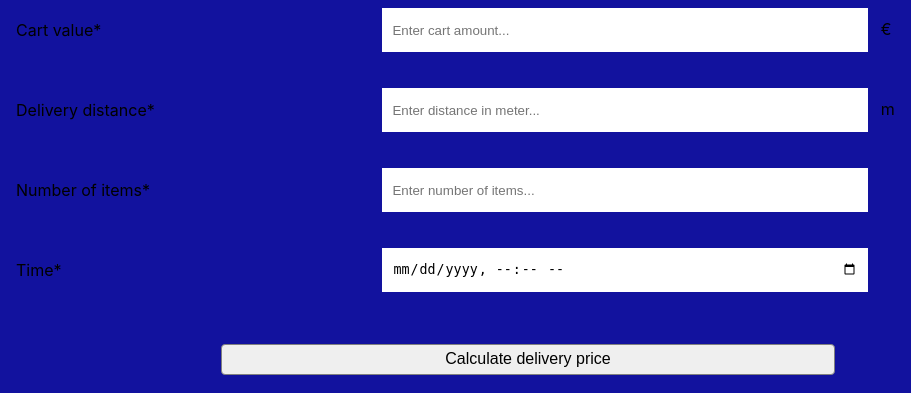
Scenario: check DeliveryForm renders › Only one error message appear with empty Input cart value
The width and height of the screenshot is (911, 393).
Type "1000" into the number field labelled "Delivery distance*" at (625, 110), box top-left (382, 88), bottom-right (868, 132)
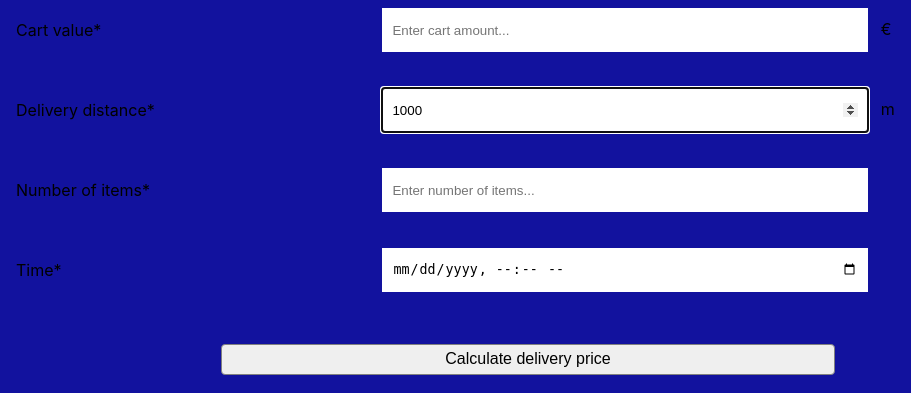
Type "4" into the number field labelled "Number of items*" at (625, 190), box top-left (382, 168), bottom-right (868, 212)
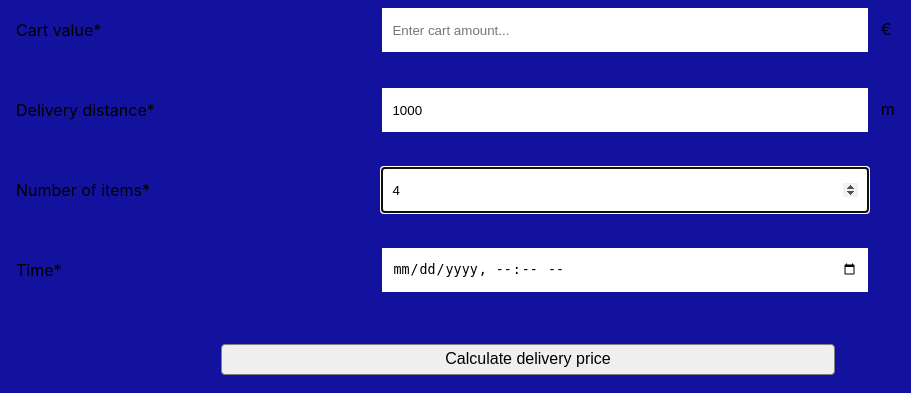
Type "2024-01-23T14:15" into the field labelled "Time*" at (625, 270), box top-left (382, 248), bottom-right (868, 292)
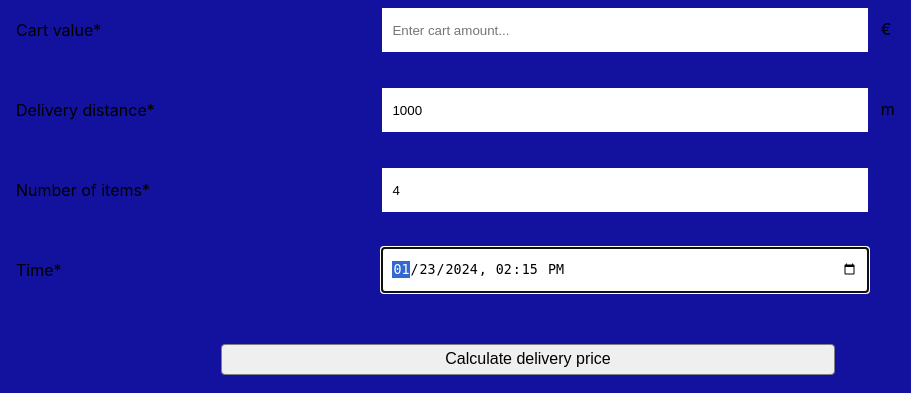
Click the button "Calculate delivery price" at (528, 359), box top-left (221, 344), bottom-right (835, 375)
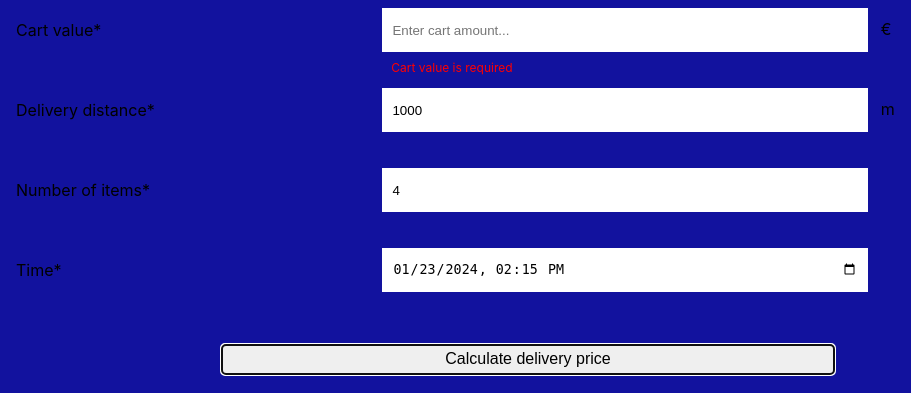
Check: the text "Cart value is required" is shown, box top-left (391, 60), bottom-right (513, 75)
